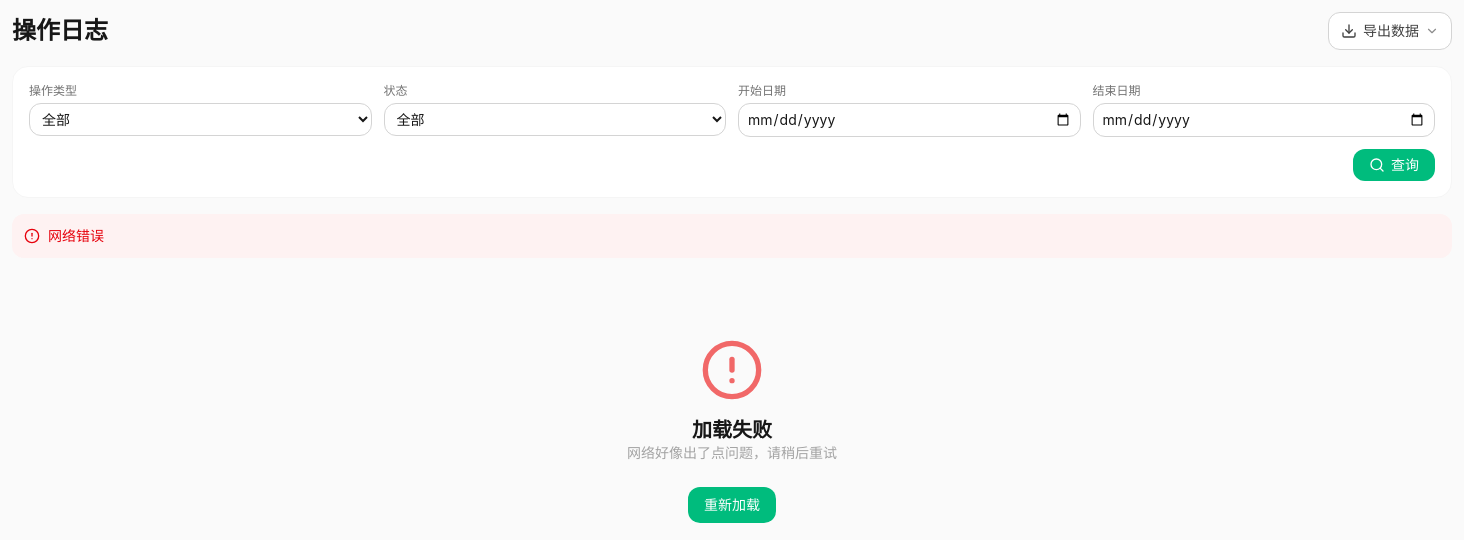
Test: AuditLog 筛选查询 › 加载失败显示"重新加载"重试按钮，点击后重新触发请求
The width and height of the screenshot is (1464, 540).
Click the button "重新加载" at (732, 505), box top-left (688, 487), bottom-right (776, 523)
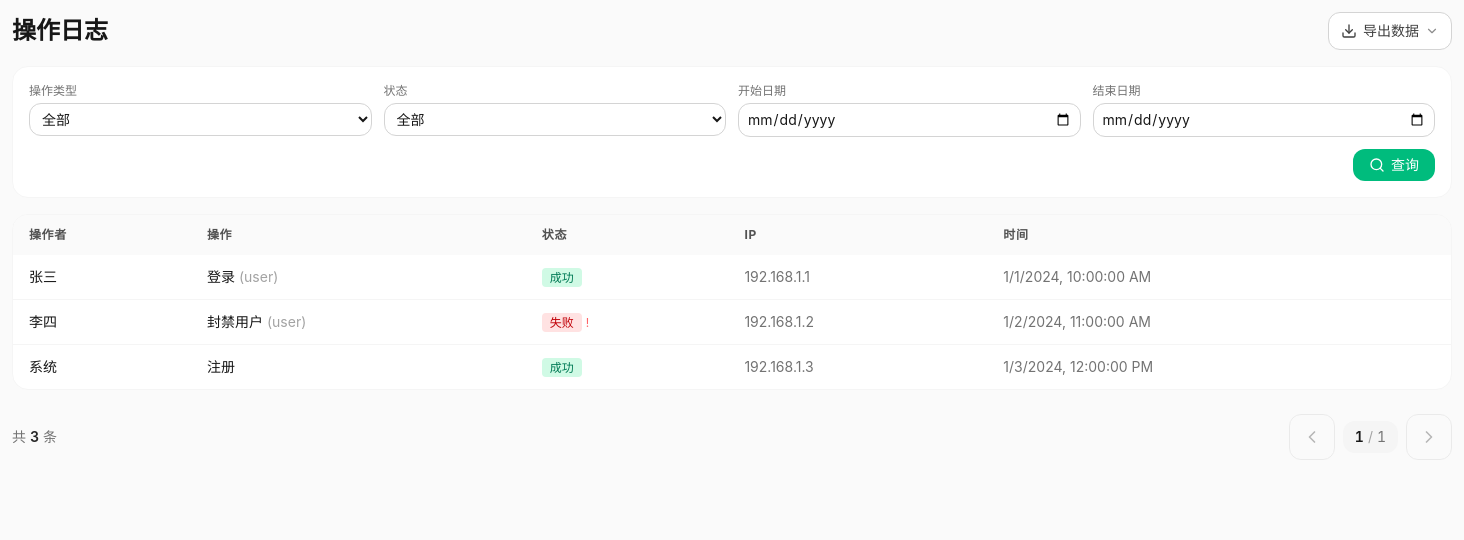
Now the text "张三" is shown, box top-left (13, 255), bottom-right (191, 300)
